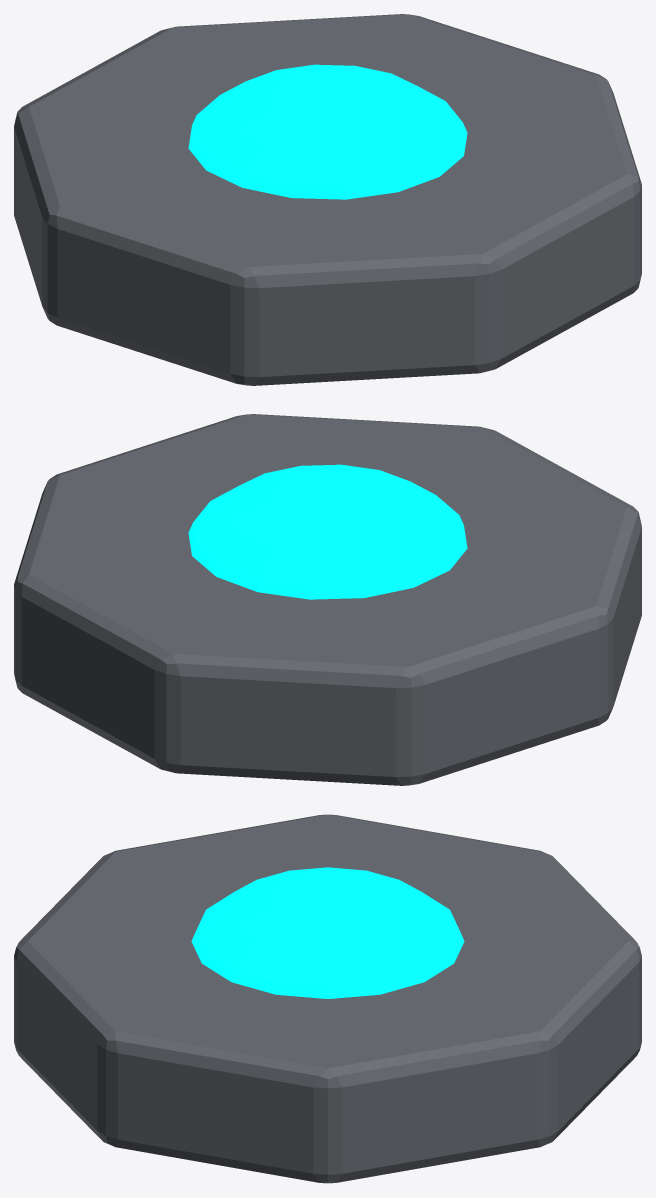
File: Weapon_EMP_Mine.fbx
3 renders of one model, top to bottom at view 1: azimuth 30°, elevation 25°; view 2: azimuth 150°, elevation 25°; view 3: azimuth 270°, elevation 25°, orthographic. The views are drawn at different scales.
Visible parts, largest first — view 1: EMP_Casing, EMP_Plasma_Core; view 2: EMP_Casing, EMP_Plasma_Core; view 3: EMP_Casing, EMP_Plasma_Core.
Boxes of the visible parts, box(x1,y1,x2,y2) form: EMP_Casing: box(14, 14, 641, 385); EMP_Plasma_Core: box(188, 64, 467, 199); EMP_Casing: box(14, 414, 641, 785); EMP_Plasma_Core: box(188, 464, 467, 599); EMP_Casing: box(14, 814, 641, 1183); EMP_Plasma_Core: box(191, 867, 464, 998).
Bounding box in the file's own units: 0.791 × 0.791 × 0.23.
